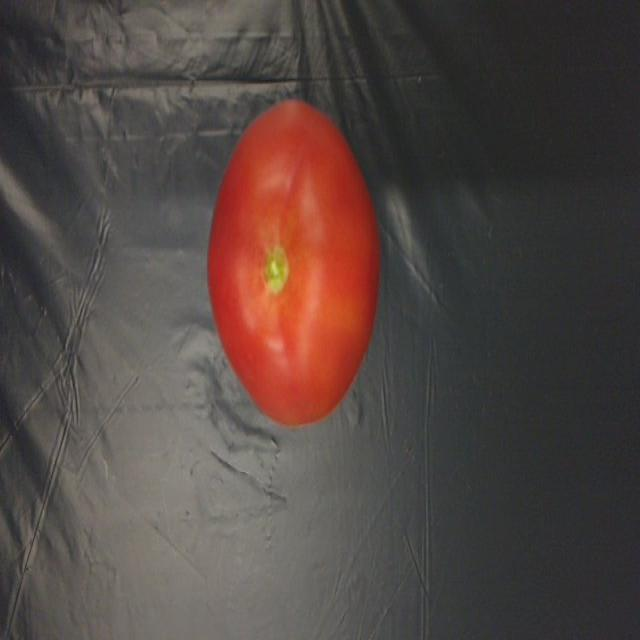kirmizi: (183, 51, 378, 444)
